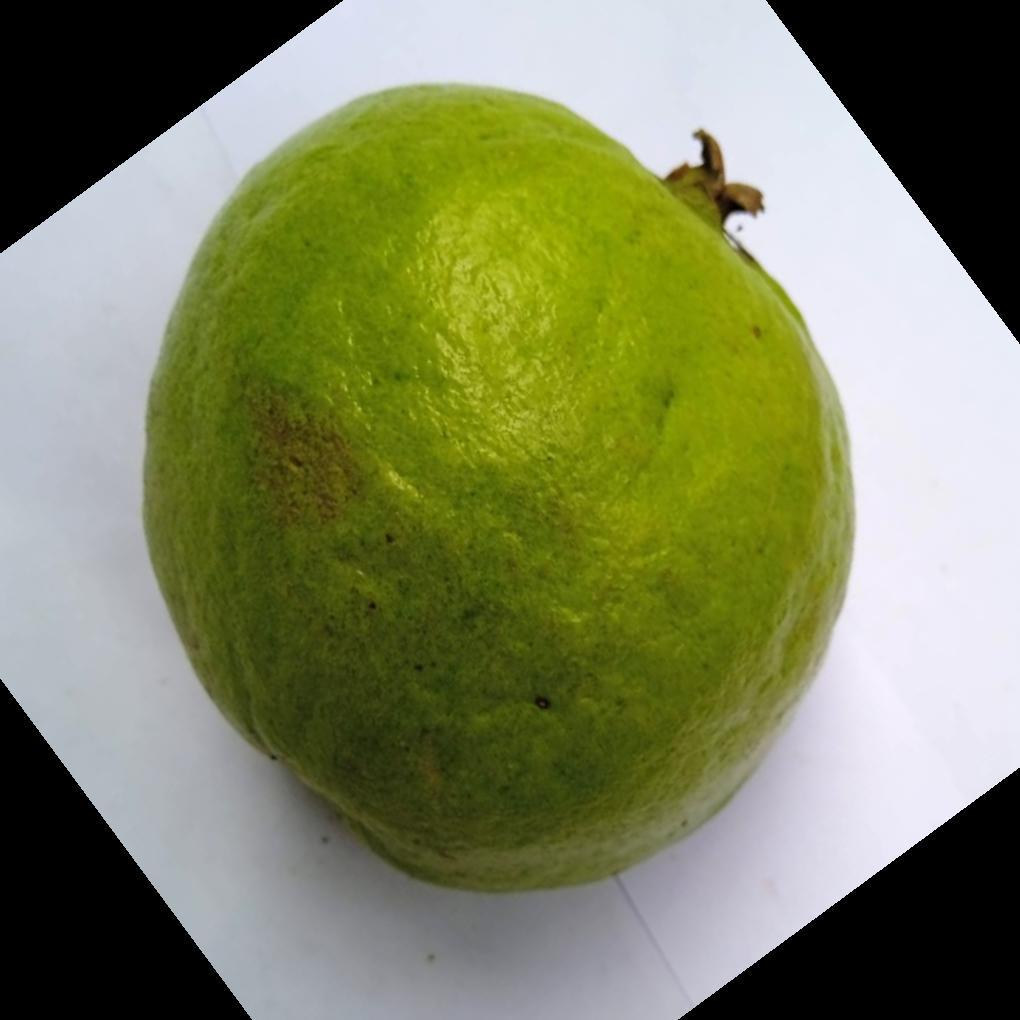FreshGuava: (138, 83, 858, 899)
